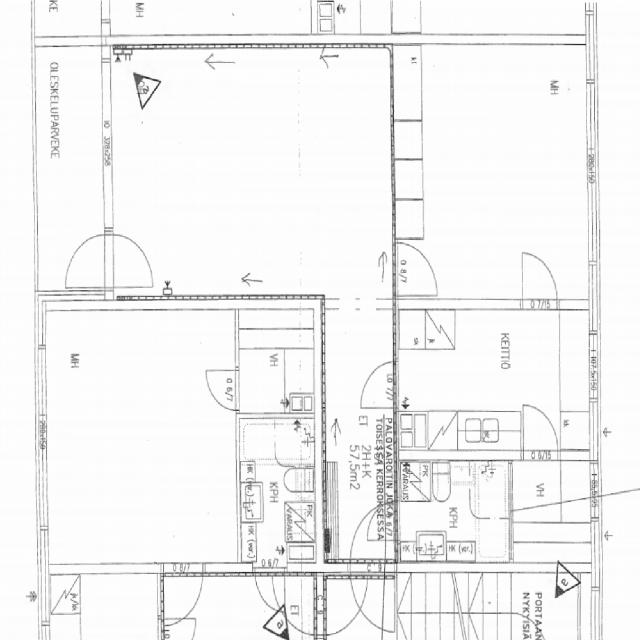door: (350, 562, 392, 628), (350, 506, 392, 572), (105, 235, 151, 287), (66, 235, 112, 287), (395, 242, 438, 296), (524, 404, 558, 459), (523, 253, 556, 309), (361, 362, 398, 408), (366, 501, 398, 540)
